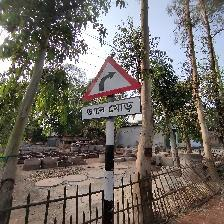Right-turn: (80, 56, 142, 122)
